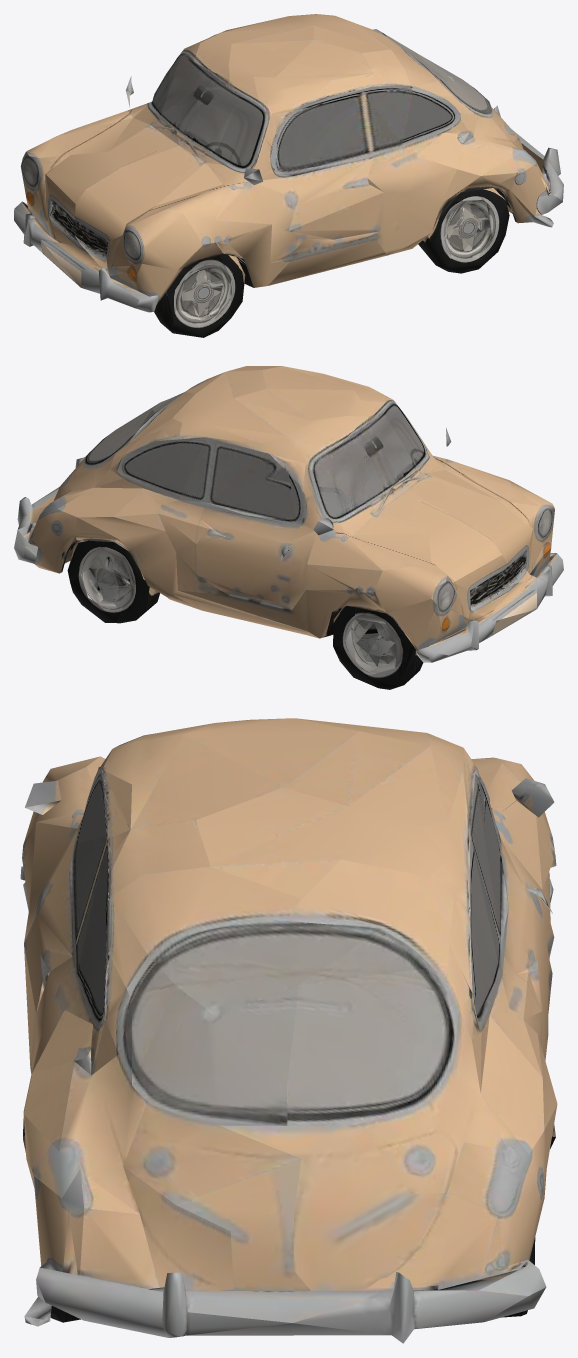
Rendered from getkong-mcar1.glb.
3 views of the same model, one above another, from view 1: azimuth 30°, elevation 25°; view 2: azimuth 150°, elevation 25°; view 3: azimuth 270°, elevation 25° (orthographic). The views are drawn at different scales.
Parts seen in each view (by area): view 1: output_unwrapped; view 2: output_unwrapped; view 3: output_unwrapped.
Part boxes in pixels (bbox=[...]): output_unwrapped: bbox=[14, 14, 563, 337]; output_unwrapped: bbox=[14, 366, 563, 689]; output_unwrapped: bbox=[20, 718, 557, 1343].
Size of the model in its own units: 1.9 by 0.8288 by 0.9371.
1 material, 1 textured.
